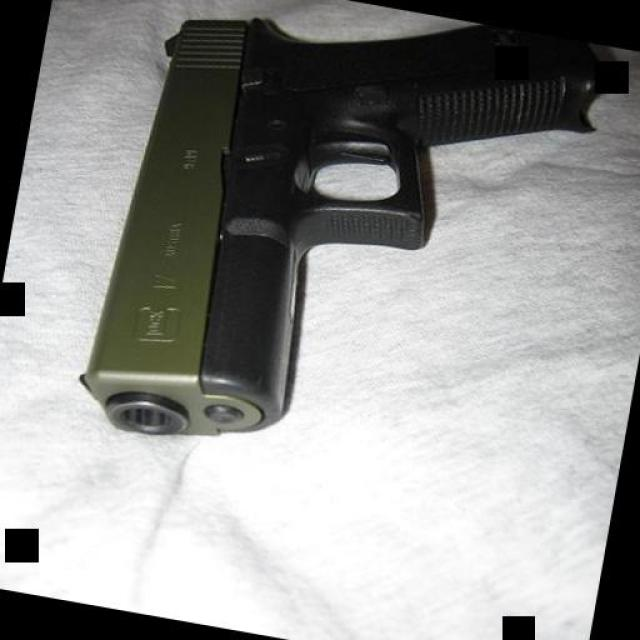gun: (72, 0, 612, 519)
